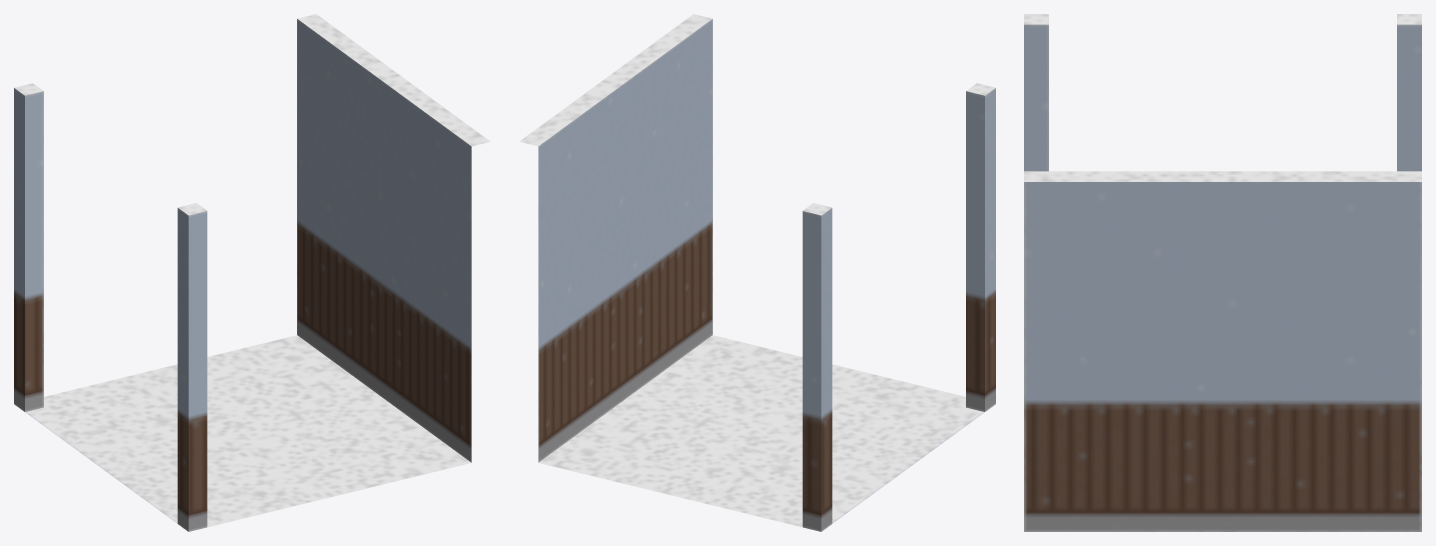
The model's file is hallWide3way.fbx.
The picture shows the model from 3 angles, left to right: view 1: azimuth 30°, elevation 25°; view 2: azimuth 150°, elevation 25°; view 3: azimuth 270°, elevation 25°; orthographic projection. The views are drawn at different scales.
Visible parts, largest first — view 1: WideHall3Way1; view 2: WideHall3Way1; view 3: WideHall3Way1.
Boxes of the visible parts, <box> form: WideHall3Way1: <box>14,14,490,531</box>; WideHall3Way1: <box>519,14,995,531</box>; WideHall3Way1: <box>1024,14,1421,531</box>.
Size of the model in its own units: 4 by 4 by 4.
